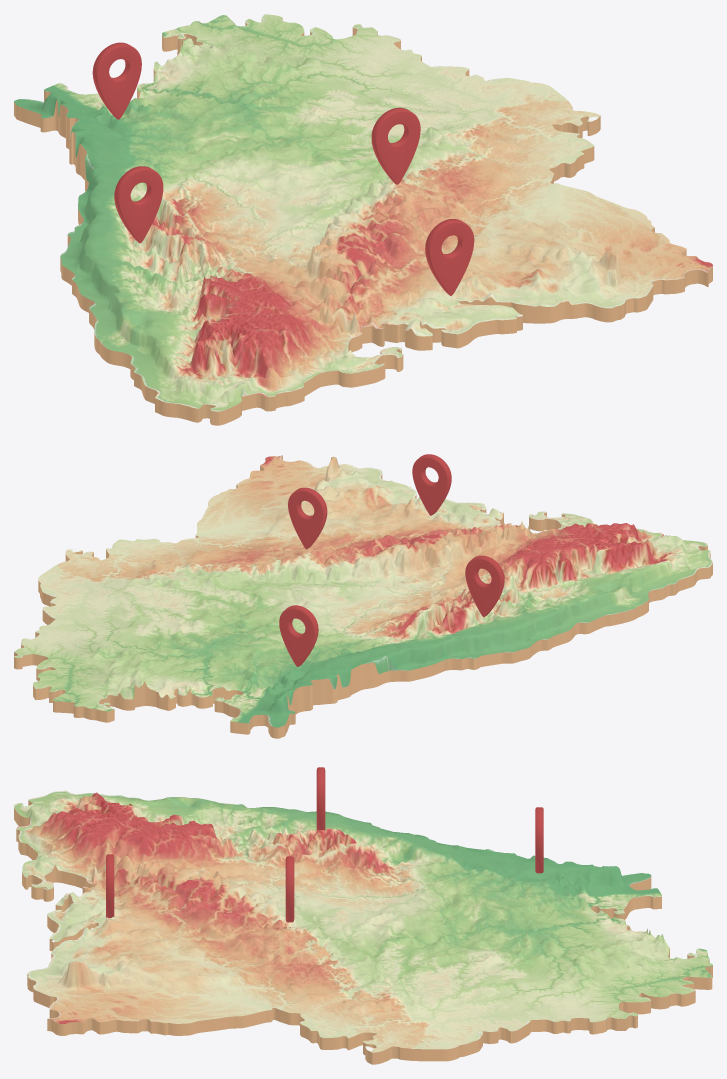
File: geco_map.glb
The picture shows the model from 3 angles, top to bottom: view 1: azimuth 30°, elevation 25°; view 2: azimuth 150°, elevation 25°; view 3: azimuth 270°, elevation 25°; orthographic projection. The views are drawn at different scales.
Visible parts, largest first — view 1: geco_bawu_map; view 2: geco_bawu_map; view 3: geco_bawu_map.
Part boxes in pixels (x1,y1,x2,y2): geco_bawu_map: [14, 14, 712, 425]; geco_bawu_map: [14, 454, 712, 738]; geco_bawu_map: [14, 767, 712, 1064].
Bounding box in the file's own units: 2.51 × 0.448 × 2.83.
Materials: 1 (1 with a texture image).
